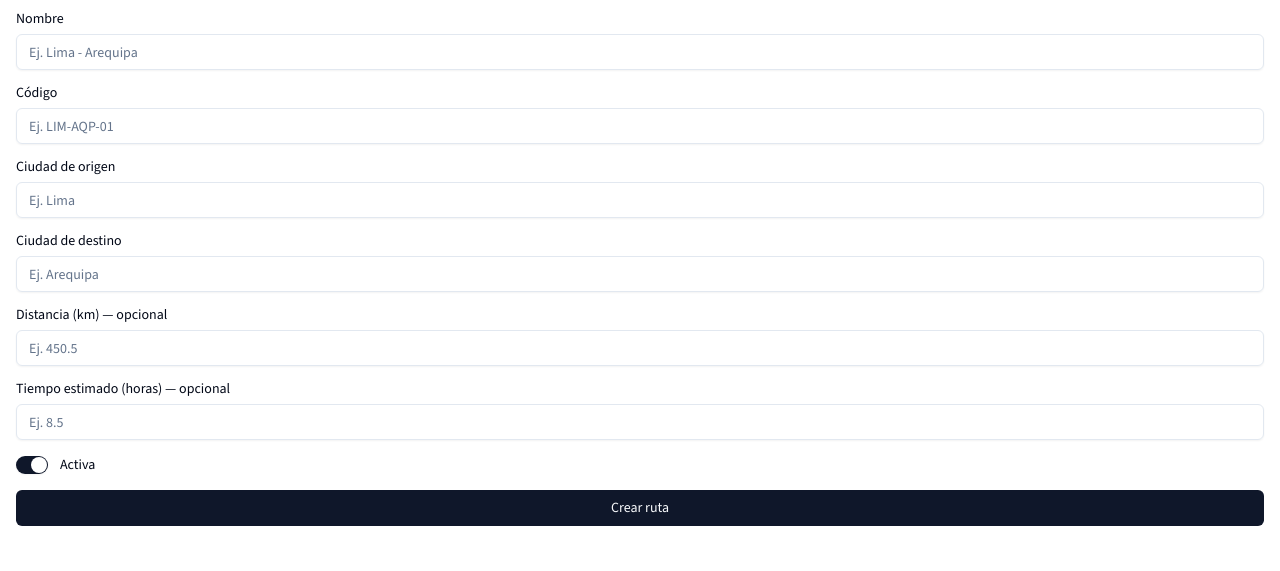
Test case: RouteForm — validation › shows error when origin_city is empty on submit
Type "Bogotá - Medellín" into the field with placeholder "Ej. Lima - Arequipa" at (640,52), box 16,34 -> 1264,70
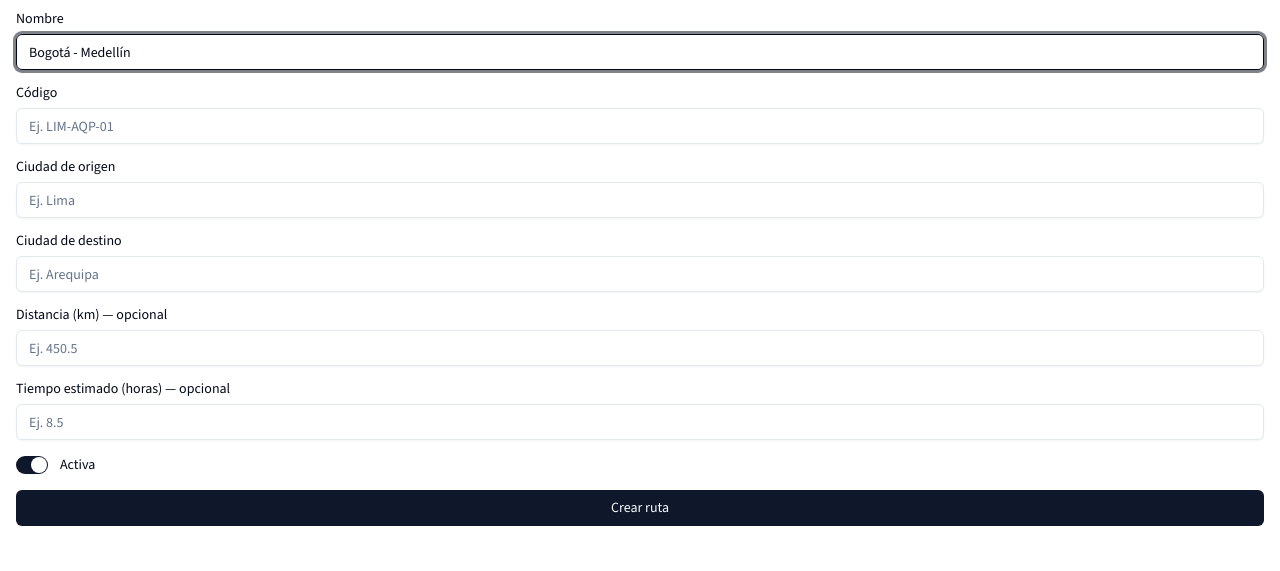
Type "BOG-MED-01" into the field with placeholder "Ej. LIM-AQP-01" at (640,126), box 16,108 -> 1264,144
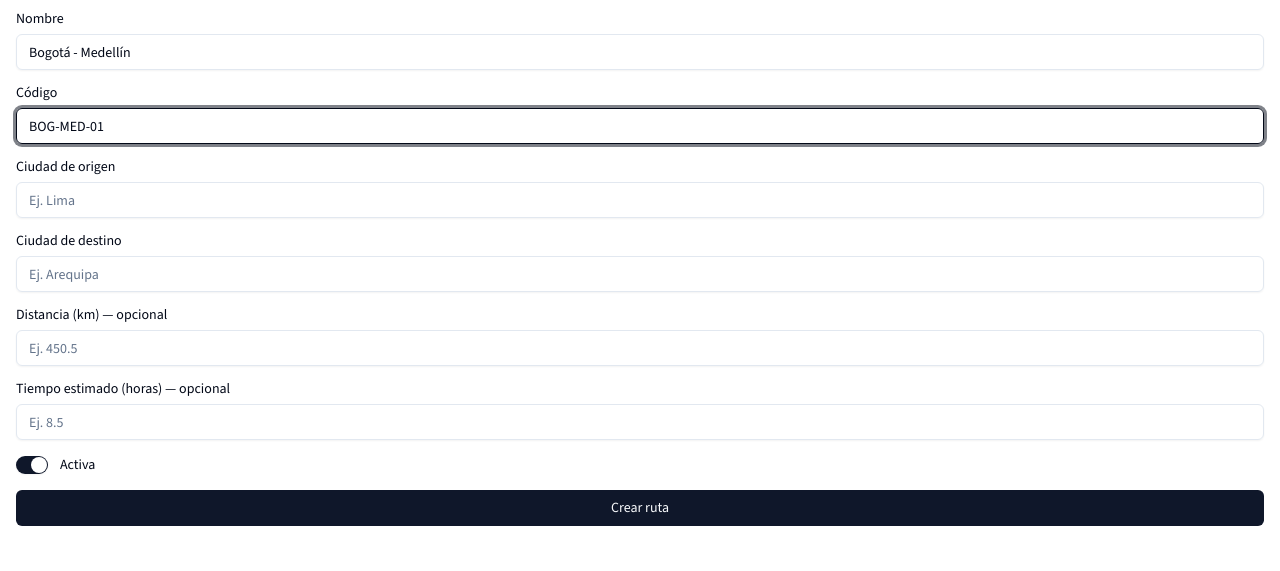
Type "Medellín" into the field with placeholder "Ej. Arequipa" at (640,274), box 16,256 -> 1264,292
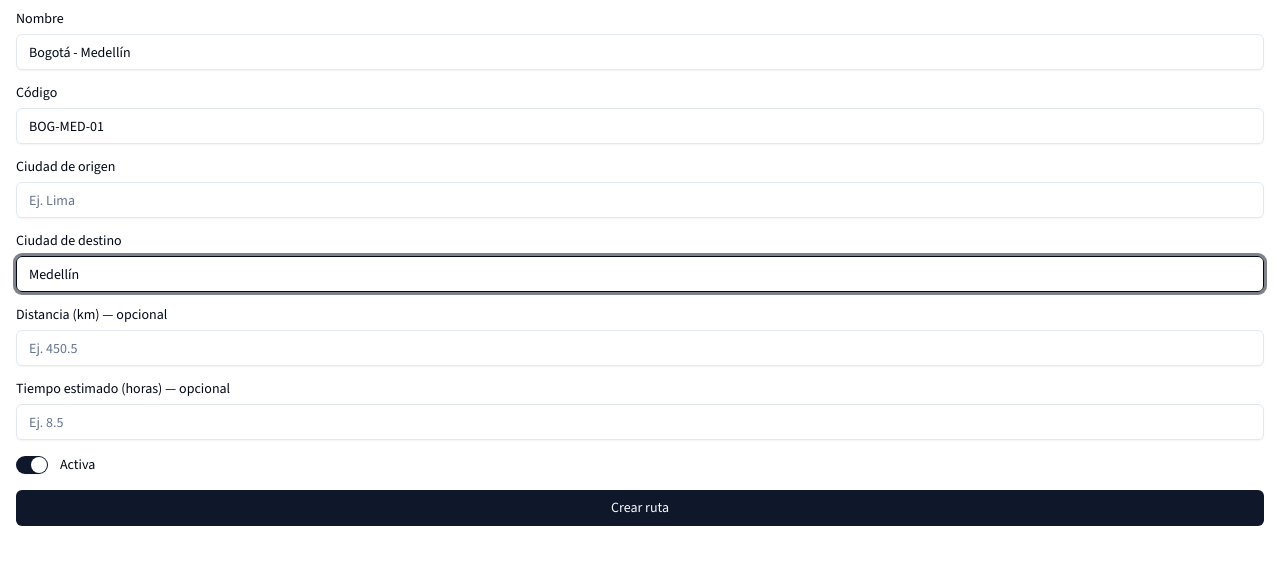
Click the button "Crear ruta" at (640,508), box 16,490 -> 1264,526
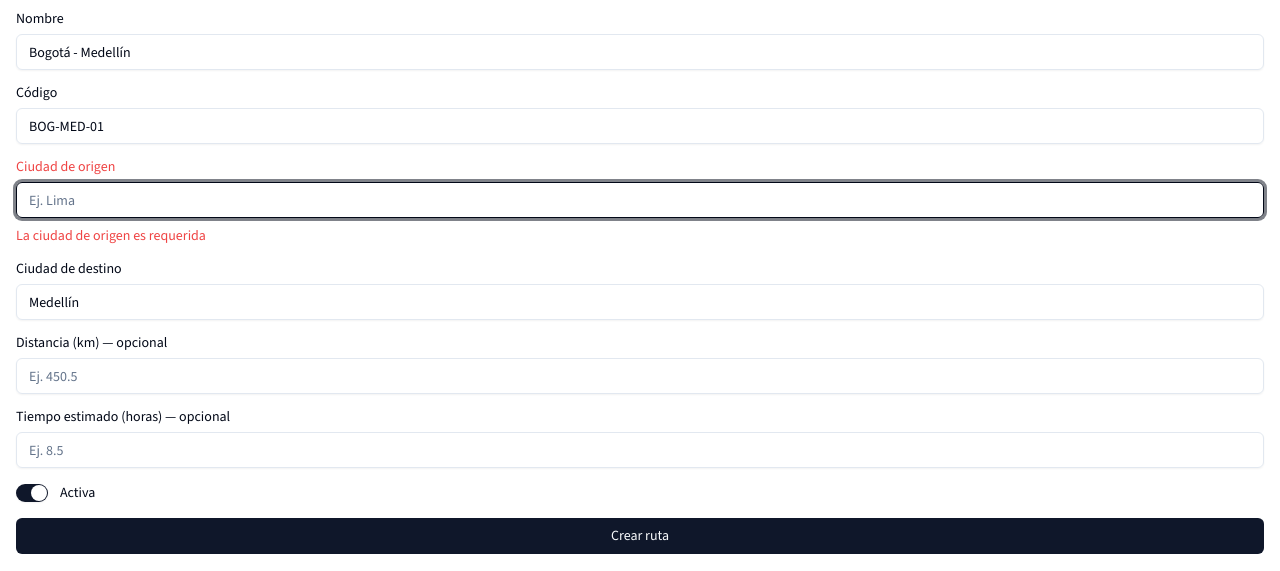
expect the text "La ciudad de origen es requerida" is shown: met, box 16,226 -> 206,245
